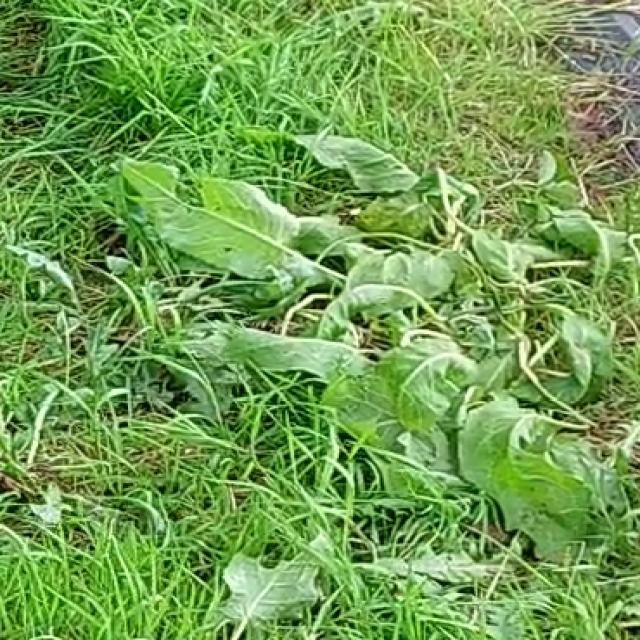organic waste: (107, 137, 640, 500)
